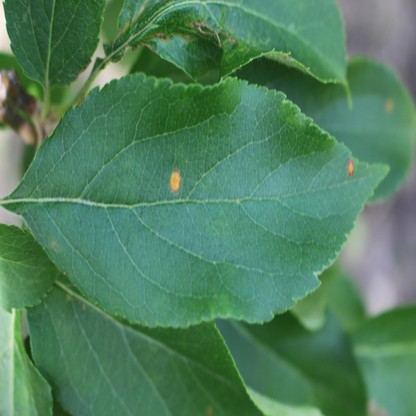rust: (170, 169, 180, 193), (347, 159, 354, 177), (384, 98, 392, 113)
